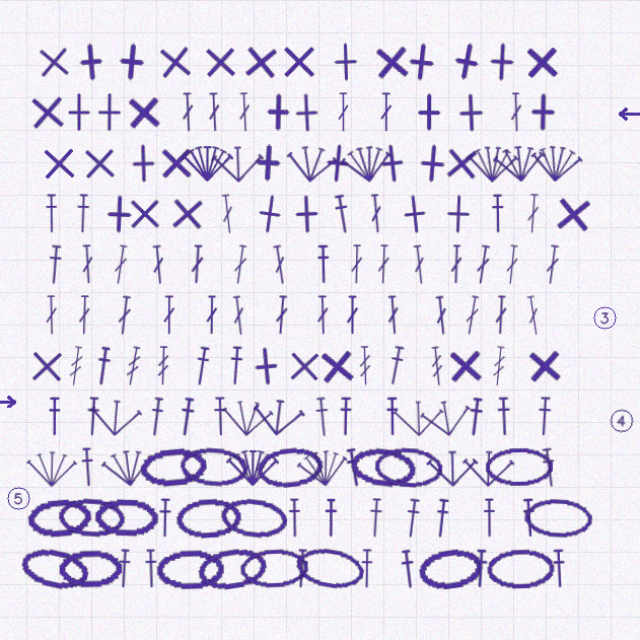chain: (23, 535, 96, 587), (198, 536, 271, 585), (295, 536, 367, 585), (416, 537, 485, 584), (349, 438, 419, 484), (221, 488, 291, 534), (257, 438, 327, 483), (142, 439, 211, 483), (31, 489, 99, 533), (182, 439, 251, 482), (374, 439, 443, 482), (62, 489, 131, 532), (178, 489, 246, 532), (522, 490, 590, 532), (485, 540, 554, 581), (242, 540, 310, 581), (159, 541, 227, 581), (98, 490, 164, 531), (484, 441, 551, 480), (63, 541, 128, 581)
double: (462, 291, 481, 331), (116, 241, 134, 281), (234, 241, 252, 281), (273, 241, 291, 281), (473, 241, 491, 281), (523, 291, 541, 331), (222, 191, 239, 231), (411, 241, 428, 281), (542, 241, 559, 281), (120, 291, 137, 331), (233, 291, 250, 331), (154, 241, 170, 281), (503, 241, 519, 281), (433, 291, 449, 331), (369, 191, 385, 230), (524, 191, 539, 230), (85, 241, 100, 280), (193, 241, 208, 280), (276, 291, 291, 330), (386, 291, 401, 330), (184, 91, 198, 130), (210, 91, 224, 130), (240, 91, 254, 130), (508, 91, 522, 130), (377, 241, 391, 280), (449, 241, 463, 280), (82, 291, 96, 330), (317, 291, 331, 330), (493, 291, 507, 330), (338, 91, 351, 130), (380, 91, 393, 130), (351, 241, 364, 280), (50, 291, 63, 330), (166, 291, 179, 330), (208, 291, 221, 330), (347, 291, 360, 330)
fan: (339, 138, 396, 184), (418, 388, 474, 434), (104, 438, 160, 483), (297, 438, 352, 483), (286, 139, 341, 183), (253, 389, 308, 433), (527, 139, 582, 182), (491, 139, 545, 182), (93, 390, 147, 432), (223, 390, 277, 432), (214, 141, 267, 181), (465, 141, 518, 181), (392, 391, 445, 431), (461, 441, 514, 481), (31, 441, 83, 481), (426, 441, 478, 481), (229, 441, 281, 480), (185, 141, 236, 180)
half_double: (386, 340, 407, 381), (333, 191, 354, 231), (344, 441, 365, 481), (98, 341, 118, 381), (195, 341, 215, 381), (180, 391, 200, 431), (151, 391, 170, 431), (465, 391, 484, 431), (538, 441, 557, 481), (403, 491, 422, 531), (432, 491, 451, 531), (399, 541, 418, 581), (51, 241, 69, 281), (315, 391, 333, 431), (230, 341, 247, 380), (89, 391, 106, 430), (534, 391, 551, 430), (84, 441, 101, 480), (368, 491, 385, 530), (519, 491, 536, 530), (120, 541, 137, 580), (295, 541, 312, 580), (471, 541, 488, 580), (80, 191, 96, 230), (215, 391, 231, 430), (495, 391, 511, 430), (147, 541, 163, 580), (549, 541, 565, 580), (49, 191, 64, 230), (489, 191, 504, 230), (317, 241, 332, 280), (52, 391, 67, 430), (339, 391, 354, 430), (385, 391, 400, 430), (161, 491, 176, 530), (289, 491, 304, 530), (481, 491, 496, 530), (360, 541, 375, 580), (325, 491, 339, 530)
noise: (605, 401, 633, 429), (589, 300, 616, 327), (11, 478, 38, 505), (613, 105, 640, 119), (0, 390, 24, 402)
single: (443, 38, 488, 83), (250, 189, 294, 233), (38, 40, 80, 82), (75, 40, 117, 82), (115, 40, 157, 82), (242, 40, 284, 82), (371, 40, 413, 82), (400, 40, 442, 82), (318, 140, 360, 182), (372, 140, 414, 182), (411, 140, 453, 182), (440, 140, 482, 182), (394, 190, 436, 232), (550, 190, 592, 232), (247, 340, 289, 382), (317, 340, 359, 382), (158, 40, 199, 82), (32, 90, 73, 131), (127, 90, 168, 131), (250, 140, 291, 181), (170, 190, 211, 231), (444, 340, 485, 381), (522, 340, 563, 381), (203, 41, 243, 81), (327, 41, 367, 81), (481, 41, 521, 81), (520, 41, 560, 81), (288, 91, 328, 131), (450, 91, 490, 131), (44, 141, 84, 181), (84, 141, 124, 181), (127, 141, 167, 181), (103, 191, 143, 231), (438, 191, 478, 231), (32, 341, 72, 381), (286, 341, 326, 381), (289, 191, 328, 231), (281, 41, 320, 80), (64, 91, 103, 130), (94, 91, 133, 130), (261, 91, 300, 130), (409, 91, 448, 130), (522, 91, 561, 130), (160, 141, 199, 180), (129, 191, 168, 230)
treble: (128, 341, 147, 381), (72, 341, 90, 381), (429, 341, 445, 381), (490, 341, 506, 381), (160, 341, 174, 380), (359, 341, 373, 380)
